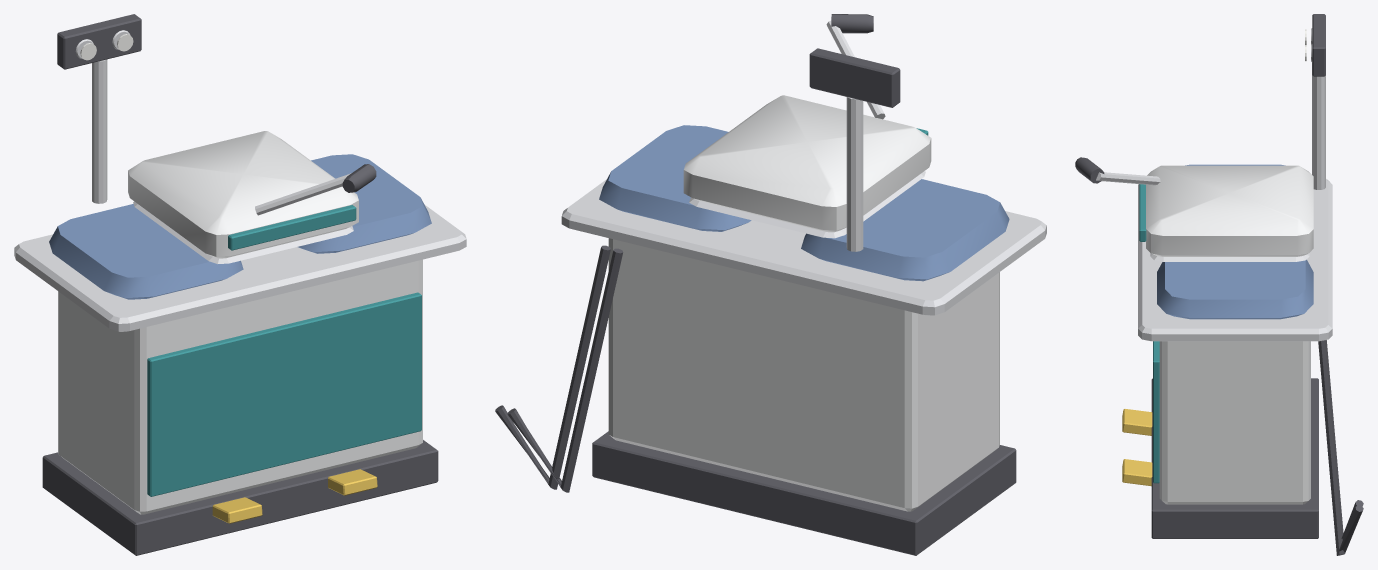
Rendered from dry-cleaners-and-alterations-shop-shirt-press-unit-c3bca541__34964.glb.
3 views of the same model, side by side, from view 1: azimuth 30°, elevation 25°; view 2: azimuth 150°, elevation 25°; view 3: azimuth 270°, elevation 25° (orthographic). The views are drawn at different scales.
Parts seen in each view (by area): view 1: shirt-press-unit, press-head/panel, press-head/metal, press-head/accent, press-head/dark; view 2: shirt-press-unit, press-head/panel, press-head/metal, press-head/dark; view 3: shirt-press-unit, press-head/panel, press-head/metal, press-head/dark, press-head/accent.
Boxes of the visible parts, box(x1,y1,x2,y2) form: shirt-press-unit: box(14, 14, 466, 555); press-head/panel: box(128, 131, 358, 258); press-head/metal: box(133, 173, 353, 263); press-head/accent: box(228, 205, 356, 250); press-head/dark: box(342, 164, 376, 192); shirt-press-unit: box(495, 48, 1046, 555); press-head/panel: box(683, 95, 931, 232); press-head/metal: box(689, 20, 925, 238); press-head/dark: box(831, 14, 873, 33); shirt-press-unit: box(1122, 14, 1363, 555); press-head/panel: box(1146, 165, 1313, 256); press-head/metal: box(1096, 172, 1309, 261); press-head/dark: box(1075, 157, 1104, 183); press-head/accent: box(1139, 184, 1146, 241).
Size of the model in its own units: 1.52 by 1.67 by 1.07.
